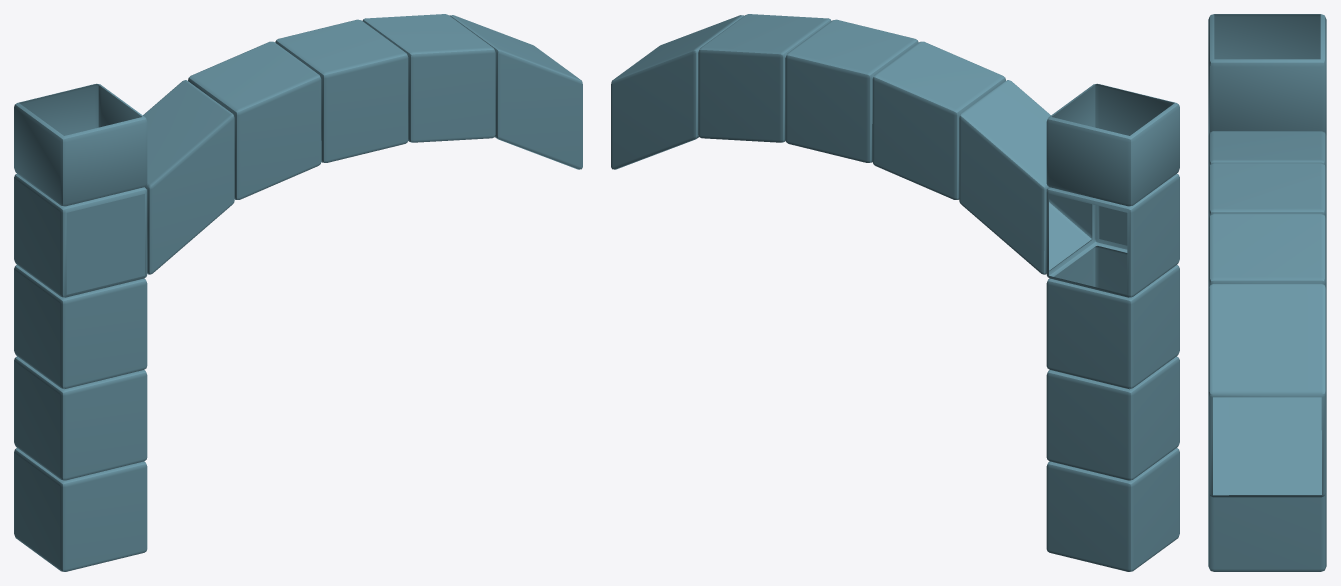
File: CastleArch.fbx
The picture shows the model from 3 angles, left to right: view 1: azimuth 30°, elevation 25°; view 2: azimuth 150°, elevation 25°; view 3: azimuth 270°, elevation 25°; orthographic projection. The views are drawn at different scales.
Visible parts, largest first — view 1: polySurface26, polySurface45; view 2: polySurface45, polySurface26; view 3: polySurface45, polySurface26.
Part boxes in pixels (x1,y1,x2,y2): polySurface26: [14, 83, 147, 571]; polySurface45: [143, 14, 582, 274]; polySurface45: [611, 14, 1092, 274]; polySurface26: [1046, 83, 1179, 571]; polySurface45: [1208, 131, 1326, 497]; polySurface26: [1208, 14, 1326, 571].
Bounding box in the file's own units: 17.99 × 14.36 × 3.
